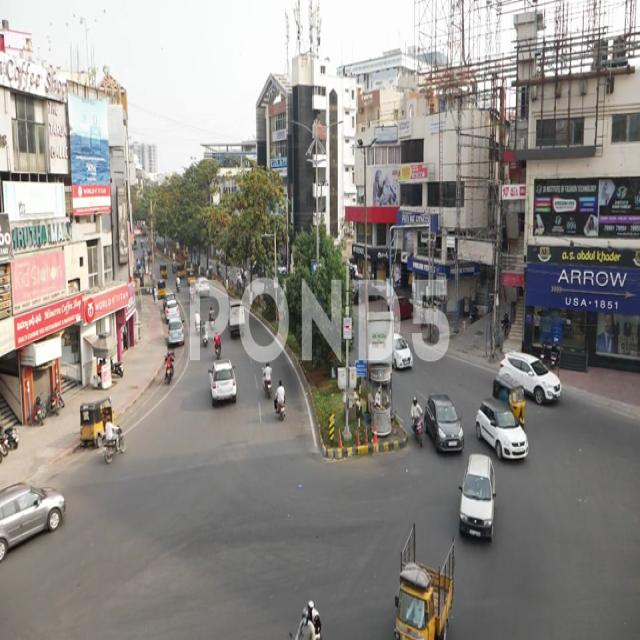car: (468, 396, 541, 472), (498, 351, 565, 413), (456, 455, 496, 545), (426, 394, 465, 455), (209, 356, 241, 409), (394, 336, 414, 378)
motorbike: (104, 417, 127, 466), (410, 394, 423, 453), (260, 360, 274, 402), (275, 378, 286, 424), (164, 352, 174, 386)
